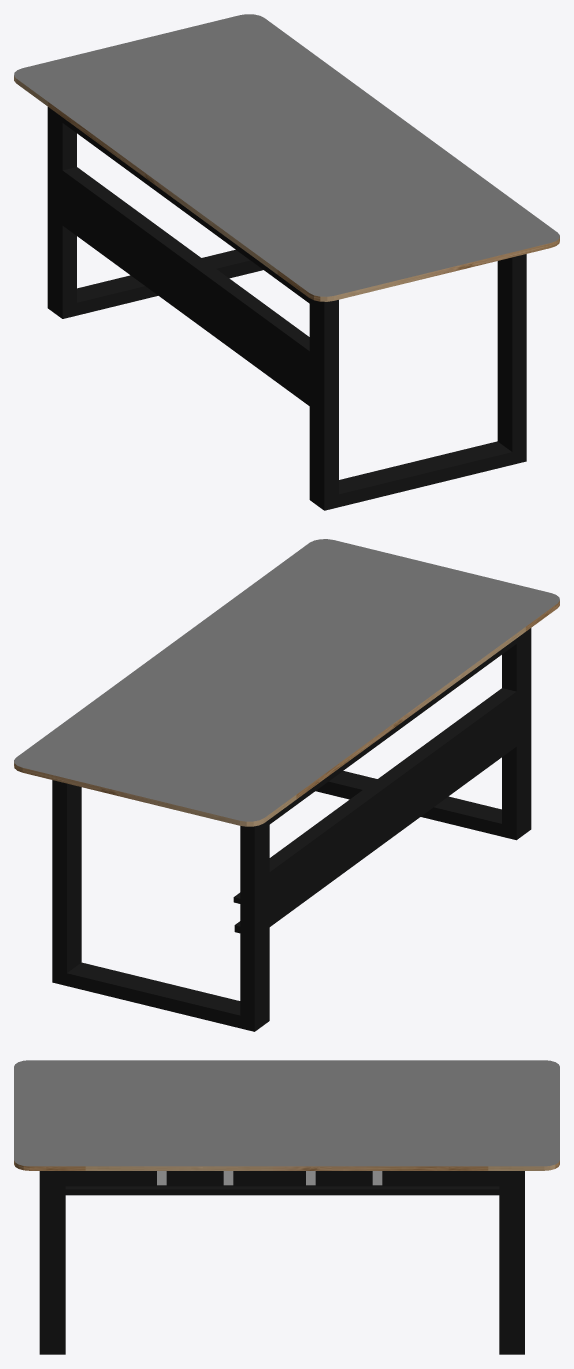
The model's file is Mesa.fbx.
3 views of the same model, one above another, from view 1: azimuth 30°, elevation 25°; view 2: azimuth 150°, elevation 25°; view 3: azimuth 270°, elevation 25° (orthographic). The views are drawn at different scales.
Visible parts, largest first — view 1: MesaCuerpo, MesaPatas; view 2: MesaCuerpo, MesaPatas; view 3: MesaCuerpo, MesaPatas, Enchufes.
Boxes of the visible parts, x1,y1,x2,y2 form: MesaCuerpo: (14, 14, 559, 301); MesaPatas: (47, 107, 526, 510); MesaCuerpo: (14, 539, 559, 826); MesaPatas: (52, 628, 531, 1031); MesaCuerpo: (14, 1060, 559, 1170); MesaPatas: (39, 1171, 524, 1354); Enchufes: (157, 1171, 382, 1185).
Bounding box in the file's own units: 200 × 175 × 434.
